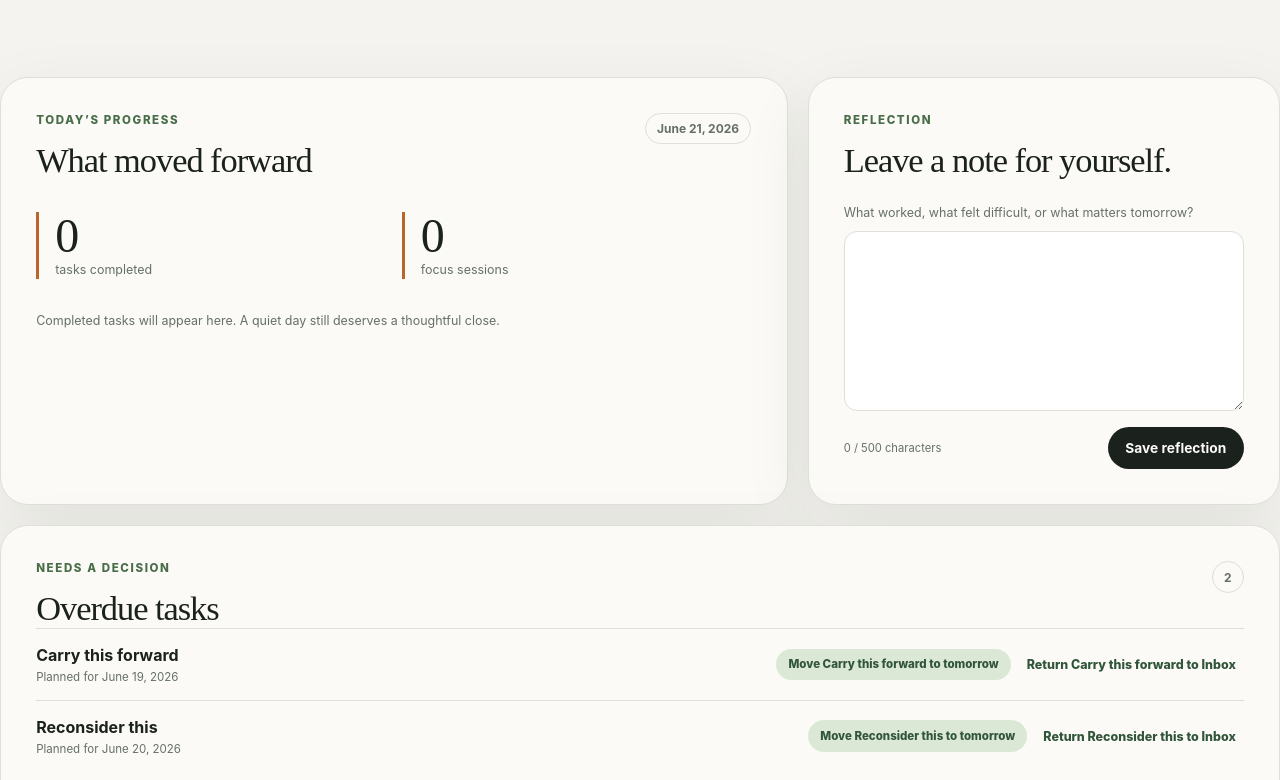
Scenario: ReviewWorkspace › keeps overdue work actionable and renders history read-only
Click the button "Move Carry this forward to tomorrow".
click(894, 664)  # box [776,649,1011,680]
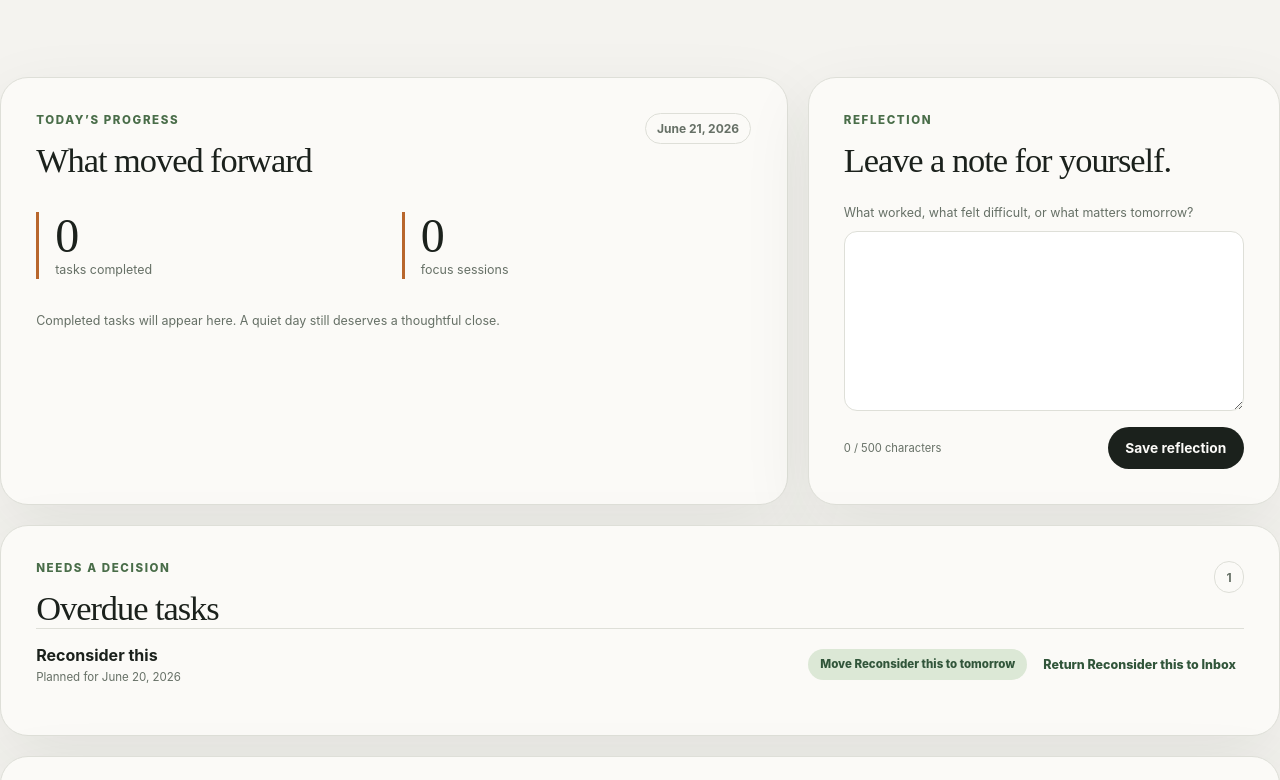
Expected: the text "Carry this forward" is gone
Click the button "Return Reconsider this to Inbox".
click(1140, 664)  # box [1035,649,1244,680]
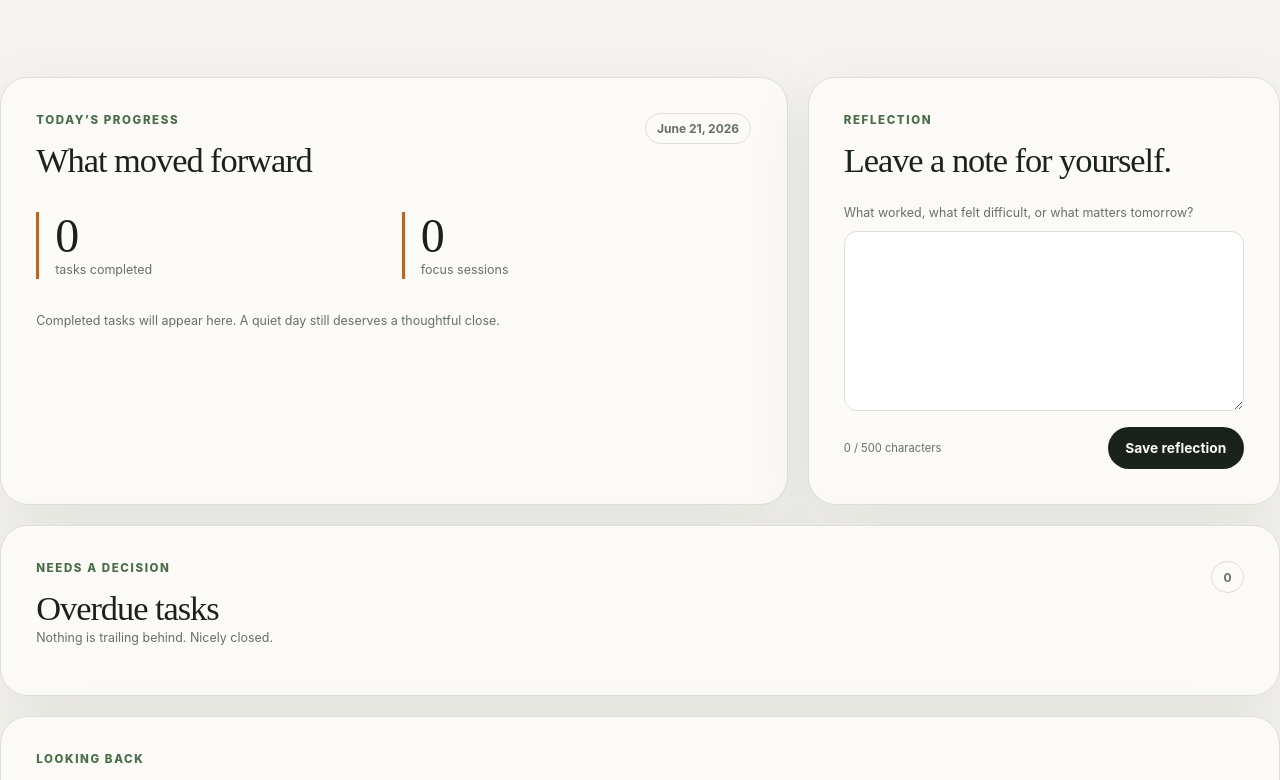
Expected: the text "Reconsider this" is gone
